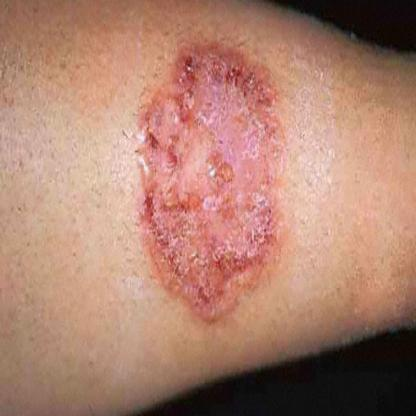Ringworm: (134, 22, 298, 330)
